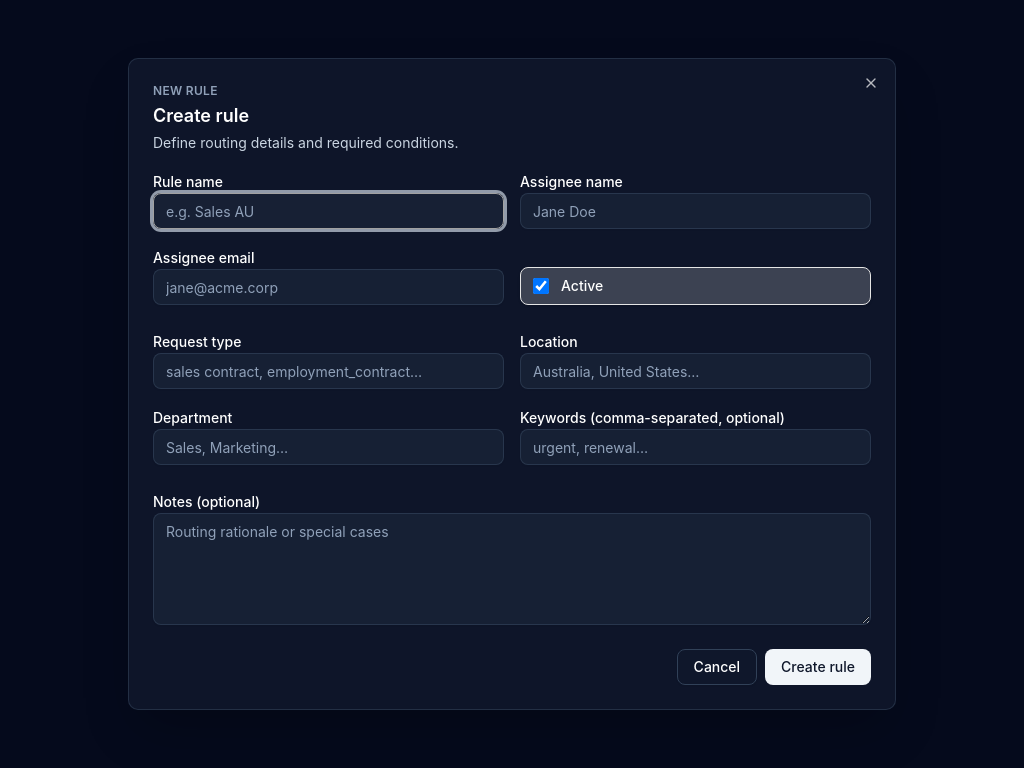
Test case: RuleModal › validates required fields before submit
The image size is (1024, 768).
Click the button "Create rule". click: [818, 667]
box: [765, 649, 871, 685]
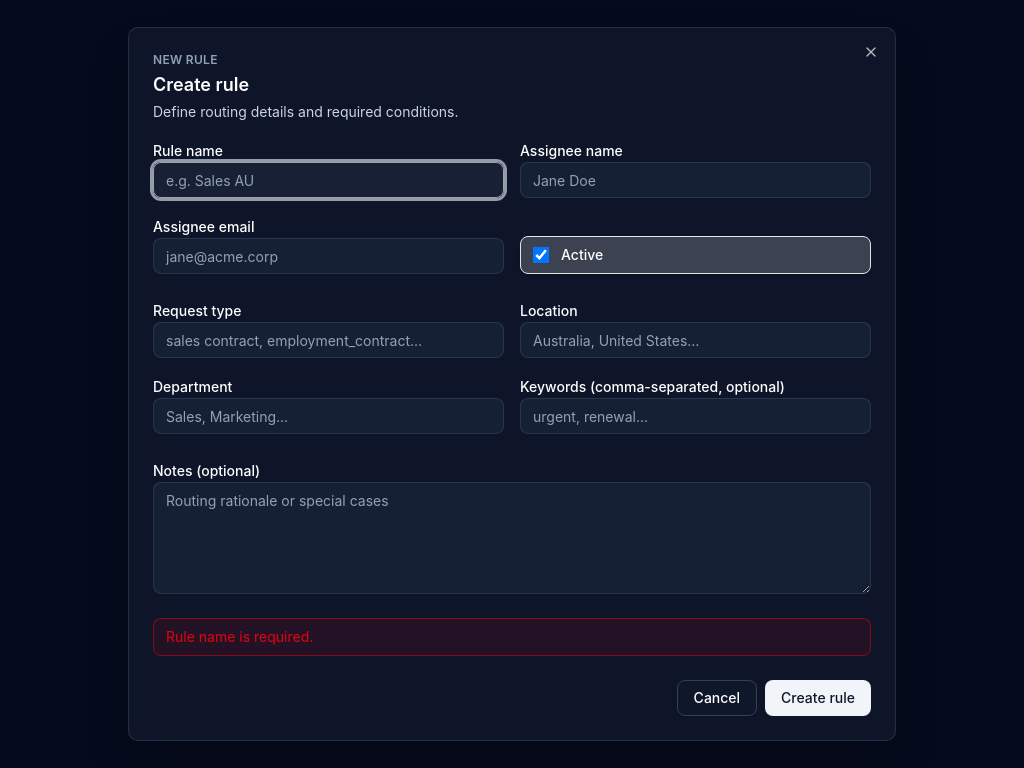
Result: the text "Rule name is required." is shown at [153, 618, 871, 656]
